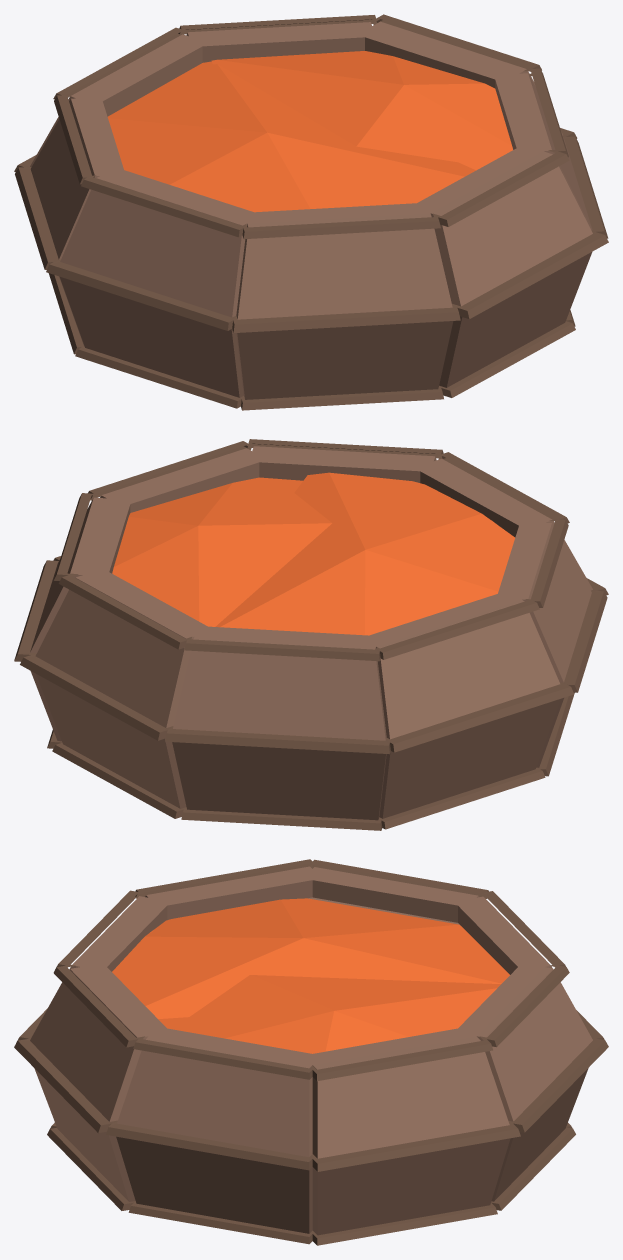
Rendered from barrel-spice-03.obj.
3 views of the same model, one above another, from view 1: azimuth 30°, elevation 25°; view 2: azimuth 150°, elevation 25°; view 3: azimuth 270°, elevation 25° (orthographic). The views are drawn at different scales.
Parts seen in each view (by area): view 1: barrel-spice-03; view 2: barrel-spice-03; view 3: barrel-spice-03.
Part boxes in pixels (<box>): barrel-spice-03: <box>14,14,608,410</box>; barrel-spice-03: <box>14,439,608,830</box>; barrel-spice-03: <box>14,859,608,1245</box>.
Bounding box in the file's own units: 0.5102 × 0.164 × 0.5114.
